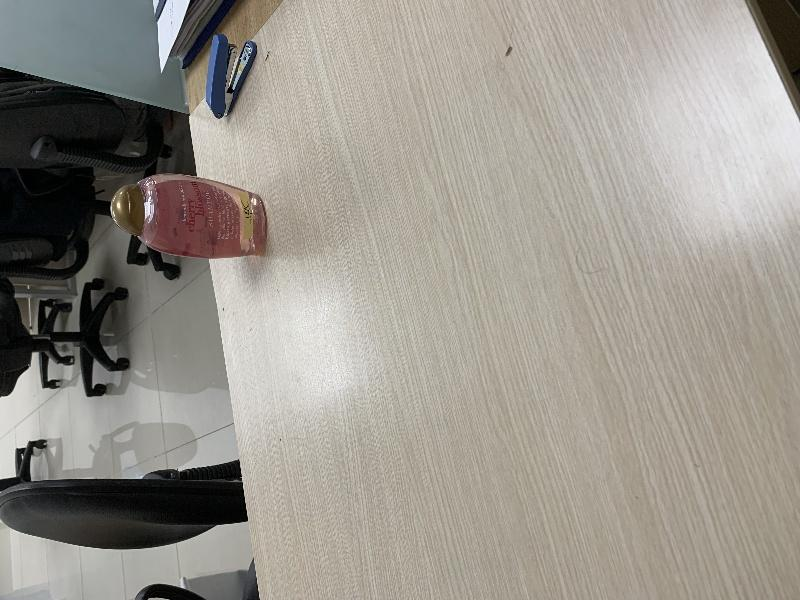CherryBlossom_Shampoo: (110, 172, 267, 259)
